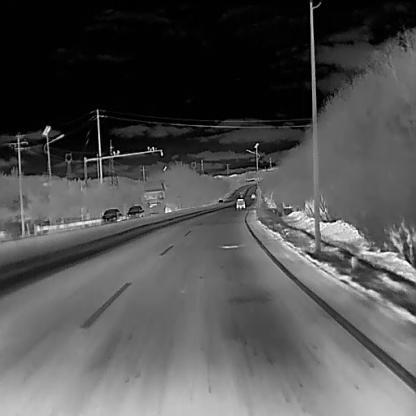car: (100, 207, 121, 223), (126, 205, 143, 218), (236, 197, 244, 209)
